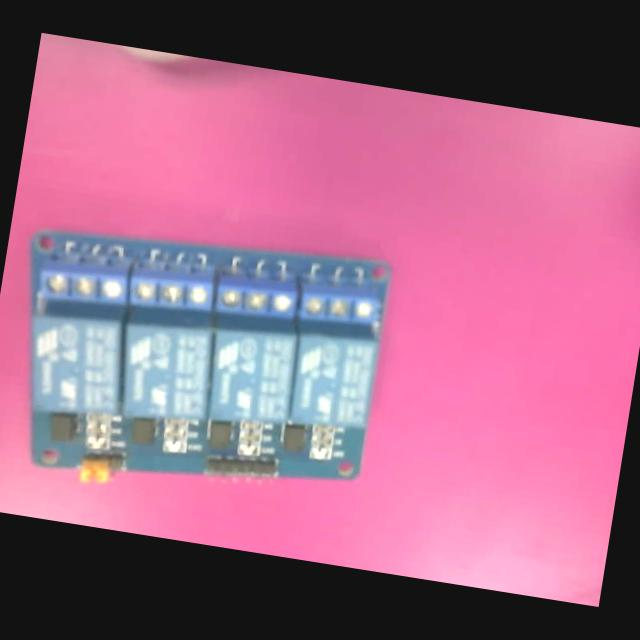relay_module: (0, 207, 393, 524)
